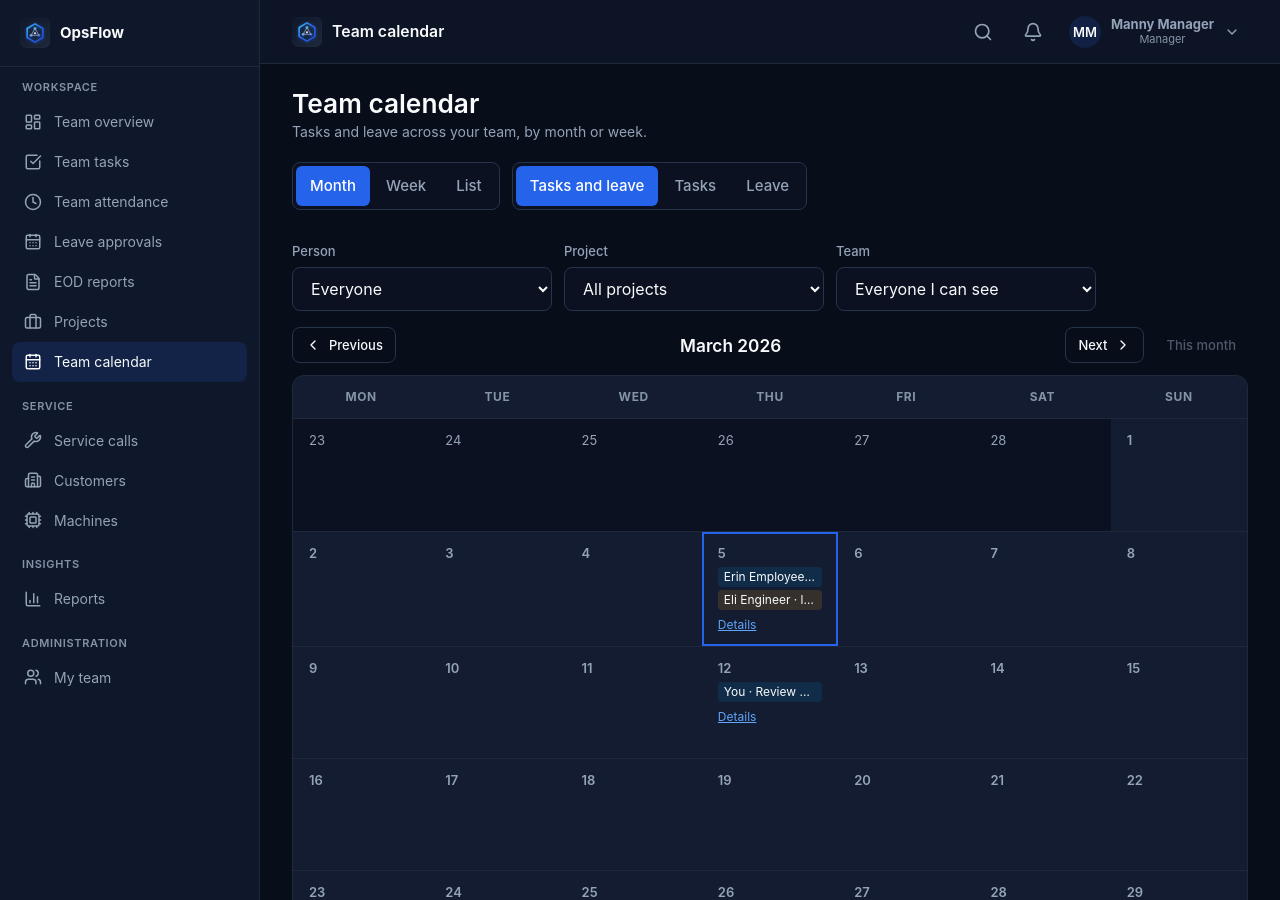
Test case: Team calendar › opens a day to read every entry
Click the button with aria-label "Show all 2 entries on 05 Mar 2026" at (737, 624), box [718,614,756,634]
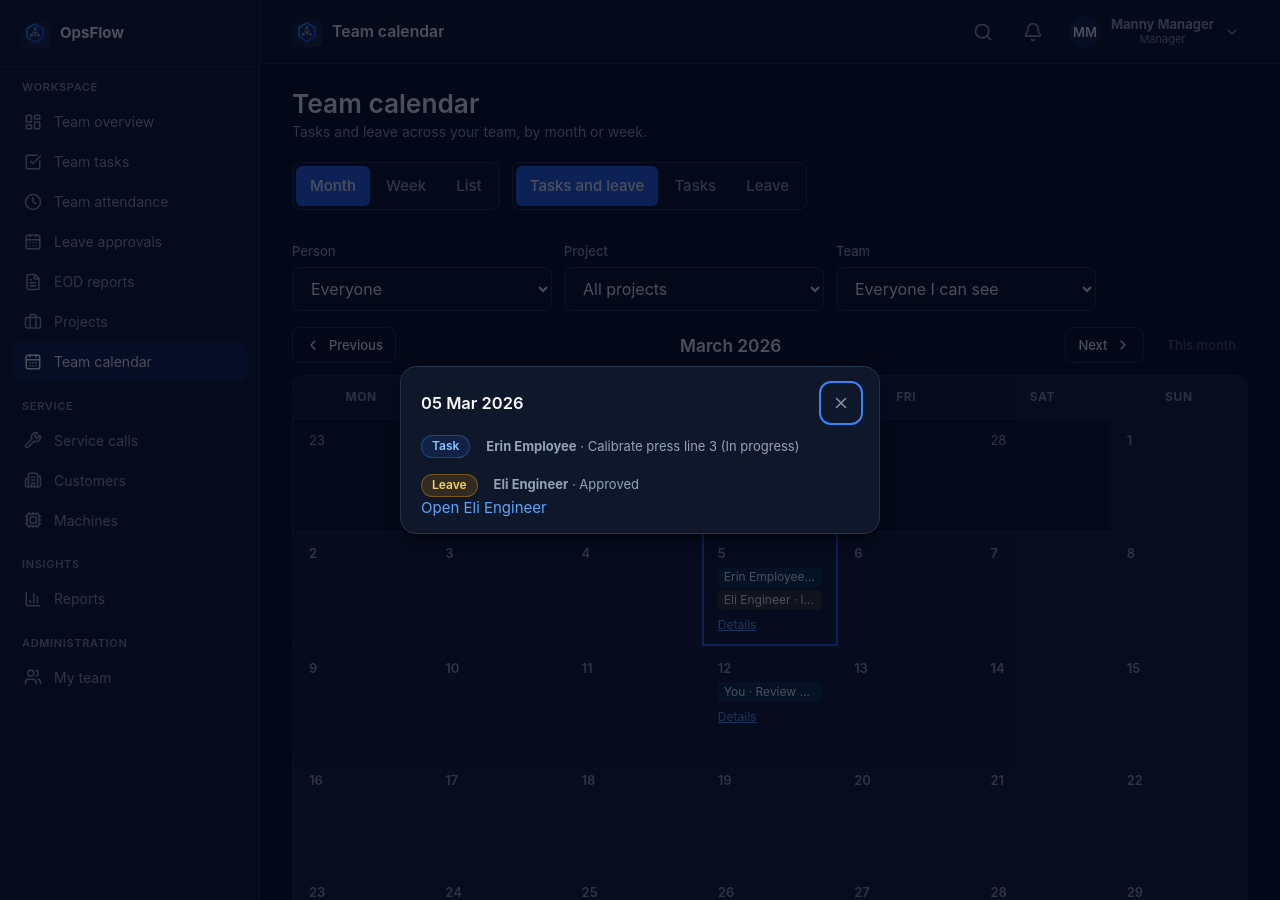
Result: the text "Erin Employee · Calibrate press line 3 (In progress)" is shown at [486,437,800,456]
Result: the text "Eli Engineer · Approved" is shown at [494,475,639,495]
